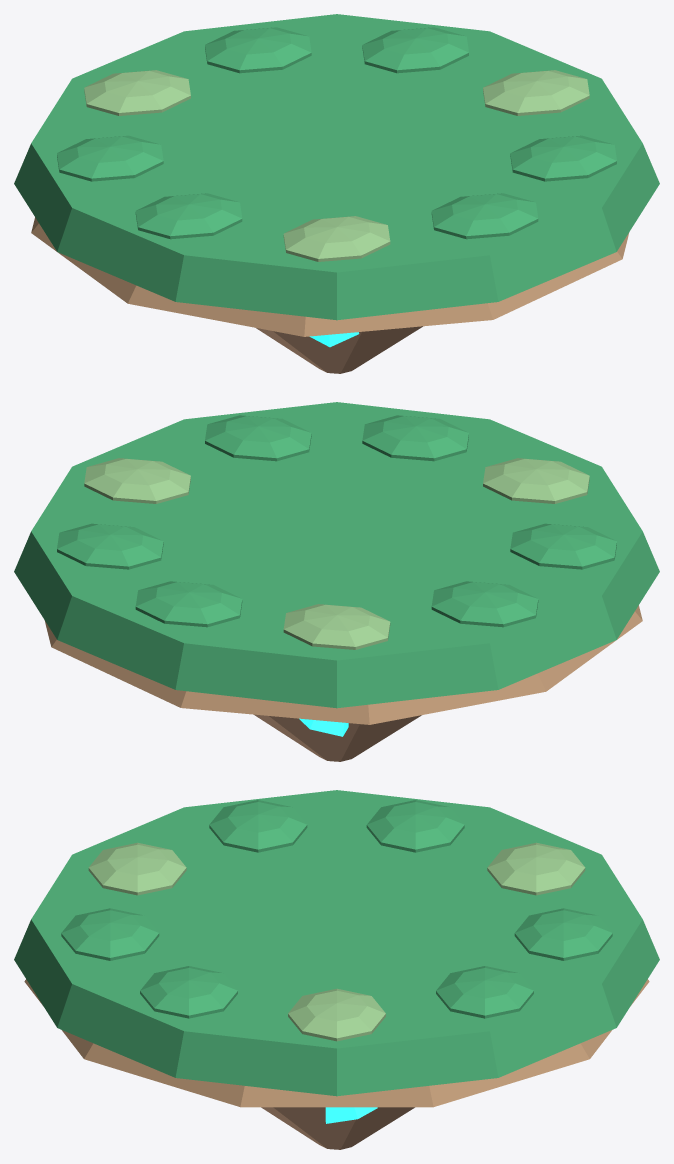
File: vuelo_islas_r8.glb
The picture shows the model from 3 angles, top to bottom: view 1: azimuth 30°, elevation 25°; view 2: azimuth 150°, elevation 25°; view 3: azimuth 270°, elevation 25°; orthographic projection.
Visible parts, largest first — view 1: emerald island crown, soft grassy hummock, layered lower shelf, island rocky core; view 2: emerald island crown, soft grassy hummock, layered lower shelf, island rocky core, cyan magic crystal; view 3: emerald island crown, soft grassy hummock, layered lower shelf, island rocky core, cyan magic crystal.
Part boxes in pixels (left/top/right/bottom): emerald island crown: left=14, top=14, right=659, bottom=320; soft grassy hummock: left=84, top=70, right=589, bottom=261; layered lower shelf: left=31, top=217, right=629, bottom=336; island rocky core: left=256, top=326, right=422, bottom=373; emerald island crown: left=14, top=402, right=659, bottom=708; soft grassy hummock: left=84, top=458, right=589, bottom=649; layered lower shelf: left=44, top=605, right=642, bottom=724; island rocky core: left=254, top=714, right=421, bottom=761; cyan magic crystal: left=299, top=718, right=348, bottom=736; emerald island crown: left=14, top=790, right=659, bottom=1096; soft grassy hummock: left=88, top=842, right=585, bottom=1041; layered lower shelf: left=24, top=979, right=649, bottom=1107; island rocky core: left=261, top=1107, right=414, bottom=1149; cyan magic crystal: left=325, top=1107, right=377, bottom=1123.
Size of the model in its own units: 9.4 by 3.79 by 9.4.
